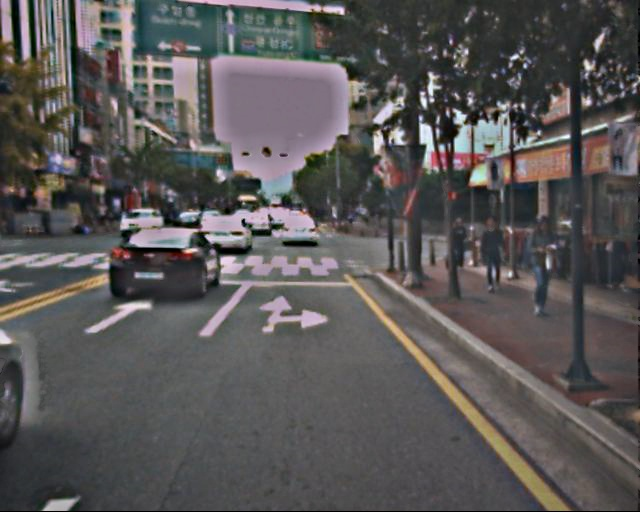person: (519, 217, 563, 319), (477, 215, 509, 292), (448, 217, 473, 275)
